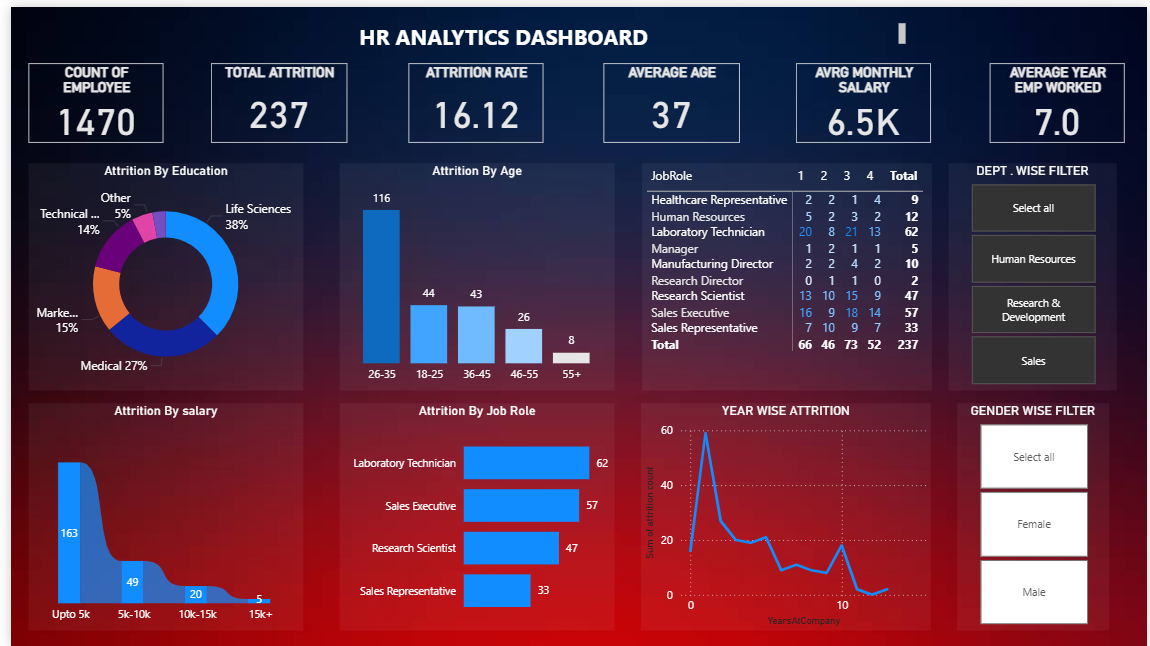

This screenshot's page, from the dashboard's own definition file:
{"tool":"powerbi","page":{"name":"Page 1","canvas":[1280,720],"ordinal":0},"visuals":[{"type":"card","title":"COUNT OF EMPLOYEE","fields":{"Values":["Count(HR_Analytics project bi.EmpID)"]},"box":[19.8,62.8,152.3,89.5],"z":0},{"type":"card","title":"TOTAL ATTRITION","fields":{"Values":["Sum(HR_Analytics project bi.Custom)"]},"box":[225.6,62.8,153.5,89.5],"z":1000},{"type":"card","title":"ATTRITION RATE","fields":{"Values":["HR_Analytics project bi.Attrition Rate"]},"box":[447.7,62.8,152.3,89.5],"z":2000},{"type":"card","title":"AVERAGE  AGE","fields":{"Values":["Avg(HR_Analytics project bi.Age)"]},"box":[667.4,62.8,153.5,89.5],"z":3000},{"type":"card","title":"AVRG MONTHLY SALARY","fields":{"Values":["Avg(HR_Analytics project bi.MonthlyIncome)"]},"box":[884.9,62.8,152.3,89.5],"z":4000},{"type":"card","title":"AVERAGE  YEAR EMP WORKED","fields":{"Values":["Avg(HR_Analytics project bi.YearsAtCompany)"]},"box":[1102.3,62.8,152.3,89.5],"z":5000},{"type":"donutChart","title":"Attrition By Education","fields":{"Category":["HR_Analytics project bi.EducationField"],"Y":["Sum(HR_Analytics project bi.attrition count)"]},"box":[19.5,176.5,309.8,255.8],"z":6000},{"type":"columnChart","title":"Attrition By Age","fields":{"Category":["HR_Analytics project bi.AgeGroup"],"Y":["Sum(HR_Analytics project bi.attrition count)"]},"box":[369.8,176.5,309.8,255.8],"z":7000},{"type":"pivotTable","title":"Attrition By Age","fields":{"Rows":["HR_Analytics project bi.JobRole"],"Columns":["HR_Analytics project bi.JobSatisfaction"],"Values":["Sum(HR_Analytics project bi.attrition count)"]},"box":[710.8,176.5,326.6,255.8],"z":8000},{"type":"ribbonChart","title":"Attrition By salary","fields":{"Y":["Sum(HR_Analytics project bi.attrition count)"],"Category":["HR_Analytics project bi.SalarySlab"]},"box":[19.2,446.7,309.8,255.8],"z":9000},{"type":"barChart","title":"Attrition By Job Role","fields":{"Y":["Sum(HR_Analytics project bi.attrition count)"],"Category":["HR_Analytics project bi.JobRole"]},"box":[369.8,446.7,309.8,255.8],"z":10000},{"type":"lineChart","title":"YEAR WISE ATTRITION","fields":{"Category":["HR_Analytics project bi.YearsAtCompany"],"Y":["Sum(HR_Analytics project bi.attrition count)"]},"box":[710.5,446.5,326.7,255.8],"z":11000},{"type":"slicer","title":"DEPT . WISE FILTER","fields":{"Values":["HR_Analytics project bi.Department"]},"box":[1055.8,176.7,189.5,255.8],"z":11001},{"type":"textbox","box":[105,13,907,37],"z":11002},{"type":"slicer","title":"GENDER WISE FILTER","fields":{"Values":["HR_Analytics project bi.Gender"]},"box":[1066.3,446.5,170.9,255.8],"z":11003}]}

Visuals, with their boxes in screenshot pixels (x1, y1, x2, y2), scaled from the page's 1280x720 canvas onto the 1150x646 screenshot:
"COUNT OF EMPLOYEE" card: bbox=(18, 56, 155, 137)
"TOTAL ATTRITION" card: bbox=(203, 56, 341, 137)
"ATTRITION RATE" card: bbox=(402, 56, 539, 137)
"AVERAGE  AGE" card: bbox=(600, 56, 738, 137)
"AVRG MONTHLY SALARY" card: bbox=(795, 56, 932, 137)
"AVERAGE  YEAR EMP WORKED" card: bbox=(990, 56, 1127, 137)
"Attrition By Education" donutChart: bbox=(18, 158, 296, 388)
"Attrition By Age" columnChart: bbox=(332, 158, 611, 388)
"Attrition By Age" pivotTable: bbox=(639, 158, 932, 388)
"Attrition By salary" ribbonChart: bbox=(17, 401, 296, 630)
"Attrition By Job Role" barChart: bbox=(332, 401, 611, 630)
"YEAR WISE ATTRITION" lineChart: bbox=(638, 401, 932, 630)
"DEPT . WISE FILTER" slicer: bbox=(949, 159, 1119, 388)
textbox: bbox=(94, 12, 909, 45)
"GENDER WISE FILTER" slicer: bbox=(958, 401, 1112, 630)
